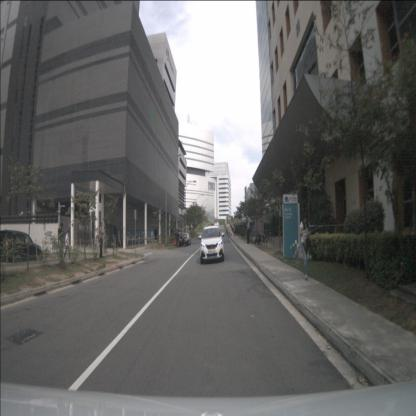barrier: (174, 236, 178, 246)
cone: (119, 241, 122, 248)
